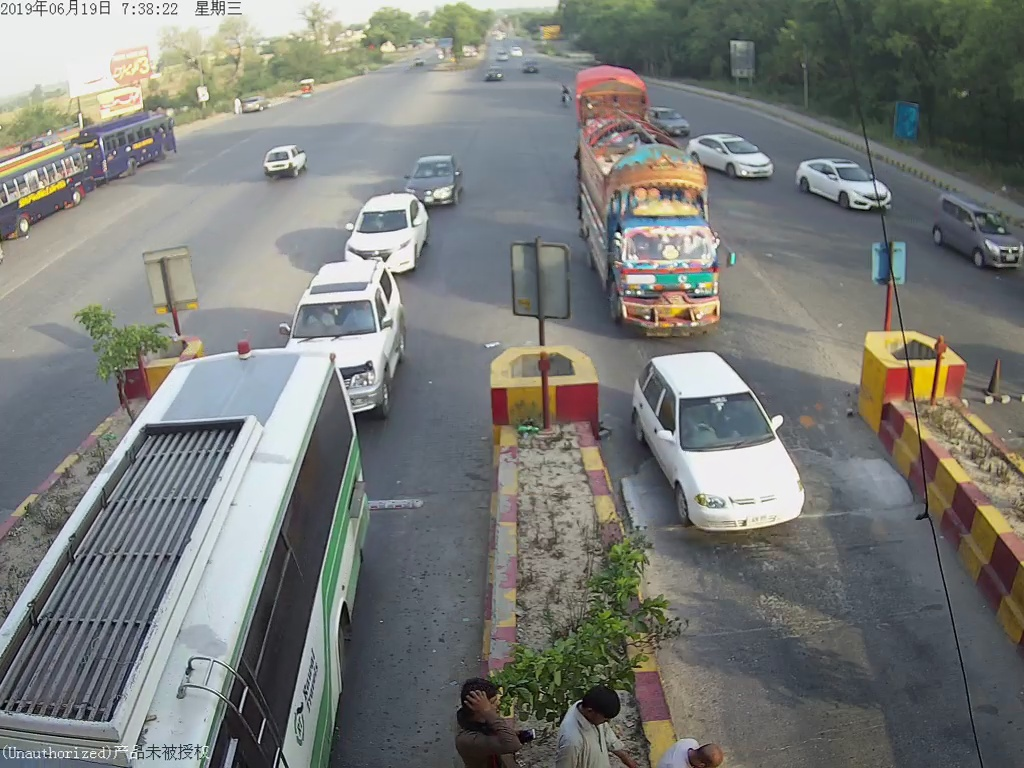Cat-1: (635, 346, 811, 527), (289, 255, 410, 411), (347, 193, 438, 270), (796, 151, 890, 218), (693, 125, 772, 182), (408, 147, 471, 206)
Cat-4: (578, 116, 726, 344)
